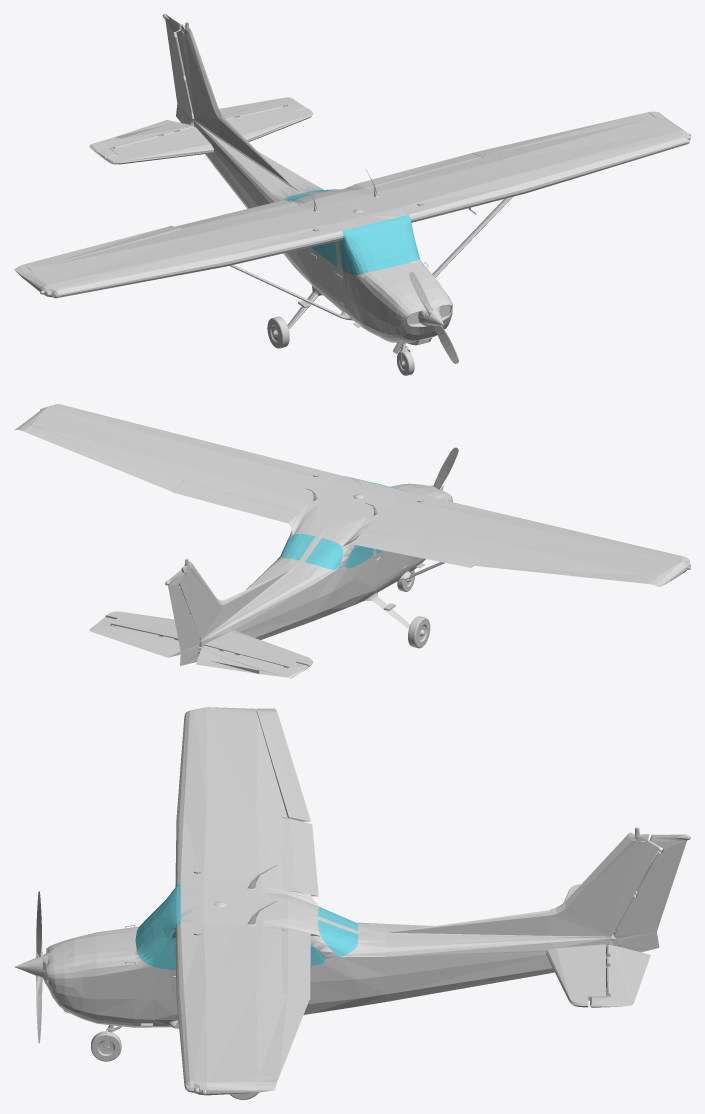
The model's file is Cessna172.fbx.
3 renders of one model, top to bottom at view 1: azimuth 30°, elevation 25°; view 2: azimuth 150°, elevation 25°; view 3: azimuth 270°, elevation 25°, orthographic. The views are drawn at different scales.
Visible parts, largest first — view 1: Cessna172Body, Cessna172Prop; view 2: Cessna172Body; view 3: Cessna172Body, Cessna172Prop.
Boxes of the visible parts, x1,y1,x2,y2 form: Cessna172Body: (14,14,690,375); Cessna172Prop: (409,271,458,363); Cessna172Body: (14,404,690,678); Cessna172Body: (43,707,690,1099); Cessna172Prop: (14,891,42,1043).
Size of the model in its own units: 439 by 123 by 326.
